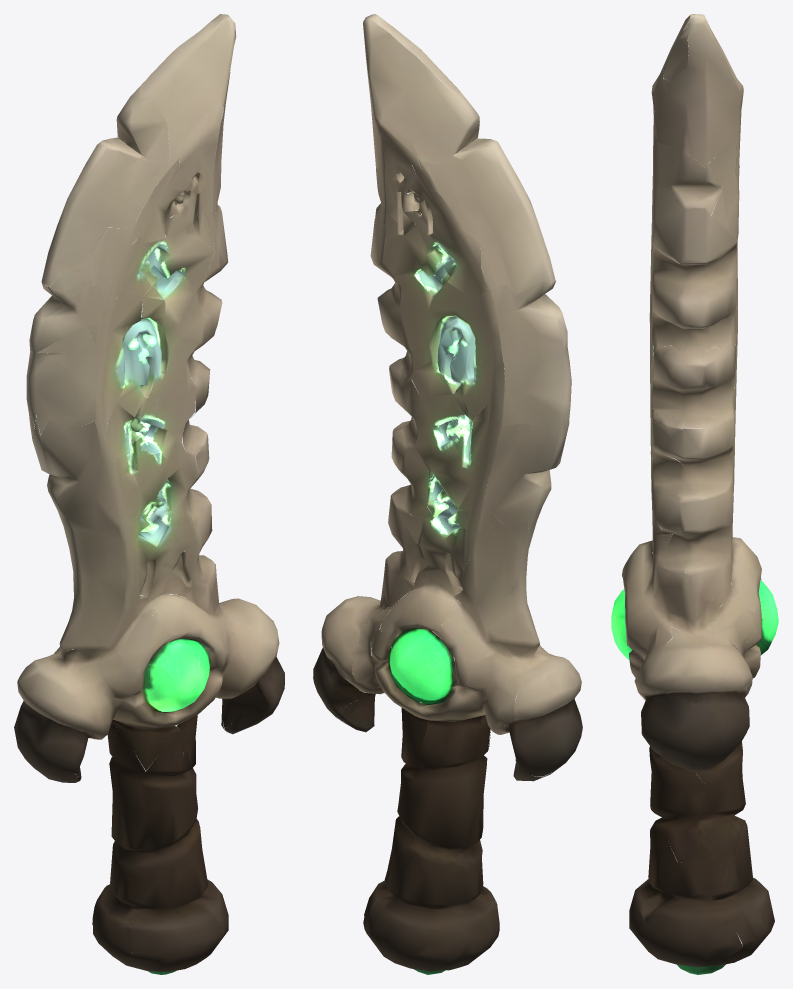
File: Arm_morgul_fang-BynCZHc5.glb
The picture shows the model from 3 angles, left to right: view 1: azimuth 30°, elevation 25°; view 2: azimuth 150°, elevation 25°; view 3: azimuth 270°, elevation 25°; orthographic projection. The views are drawn at different scales.
Parts seen in each view (by area): view 1: Arm_morgul_fang; view 2: Arm_morgul_fang; view 3: Arm_morgul_fang.
Part boxes in pixels (x1,y1,x2,y2): Arm_morgul_fang: (14,14,284,974); Arm_morgul_fang: (313,14,582,974); Arm_morgul_fang: (611,14,778,974).
Bounding box in the file's own units: 0.3916 × 1.4 × 0.2154.
1 material, 1 textured.
